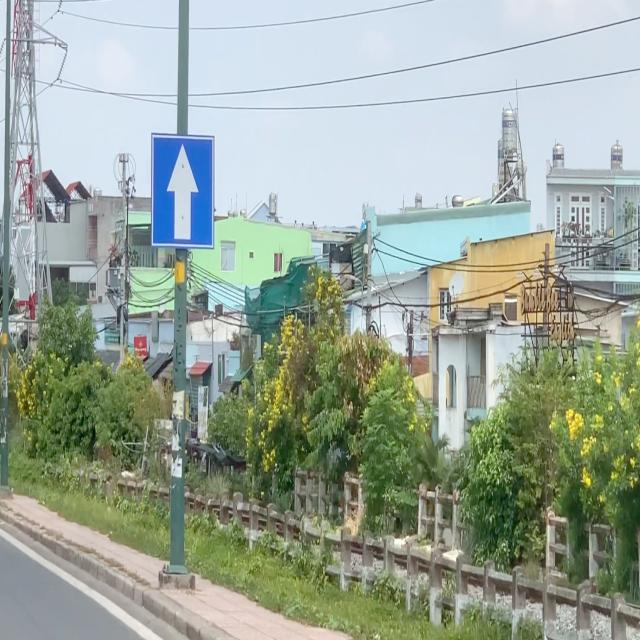Hieu lenh: (152, 131, 214, 251)
